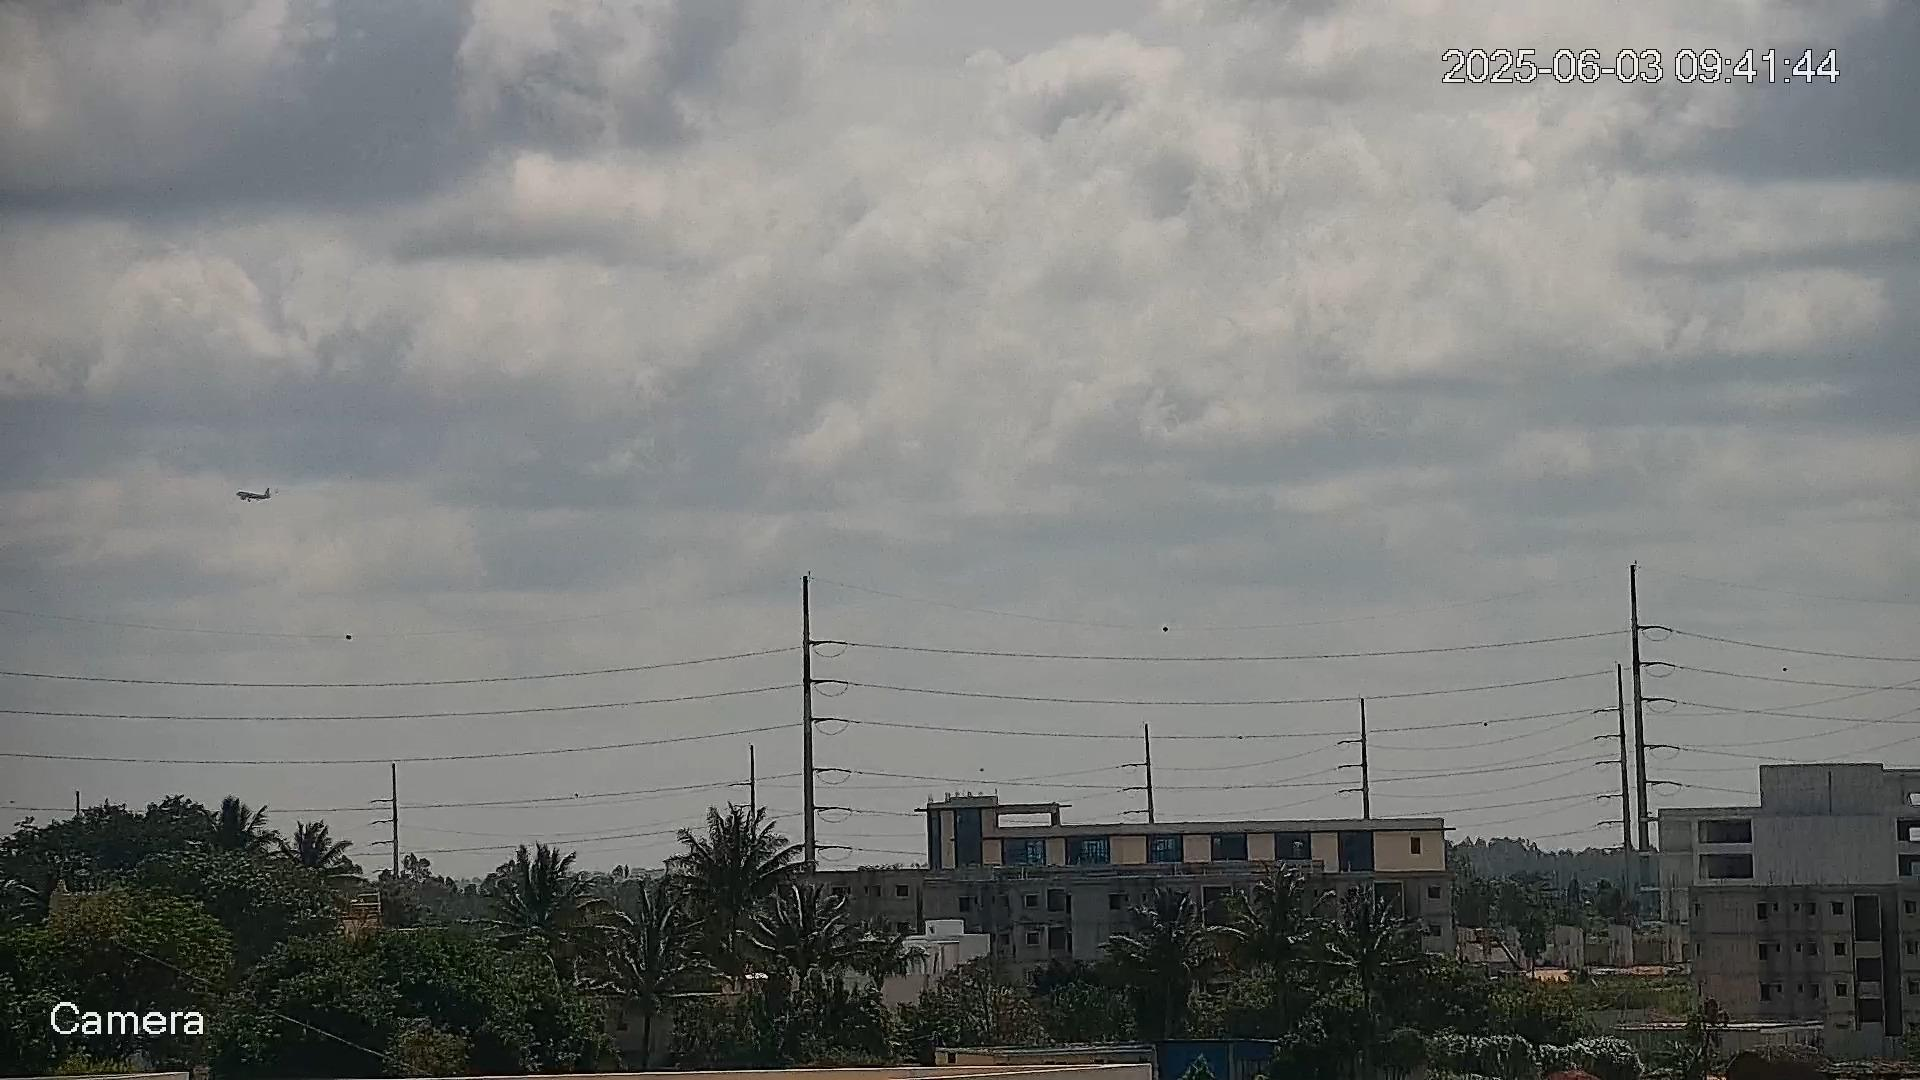Aircraft: (235, 488, 273, 502)
